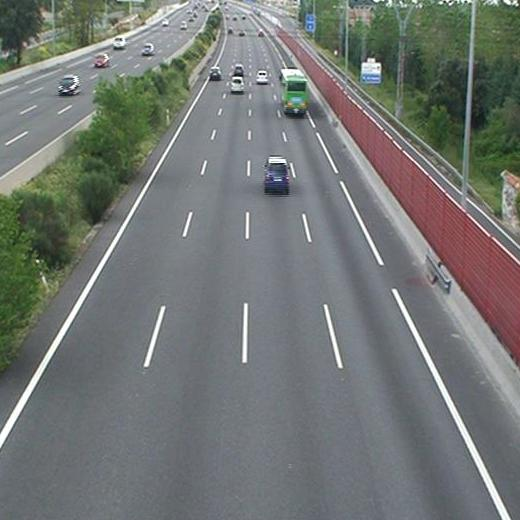bus: (280, 69, 308, 114)
car: (264, 158, 290, 188), (229, 77, 245, 92), (256, 71, 269, 83), (210, 67, 221, 78), (233, 64, 243, 76)
